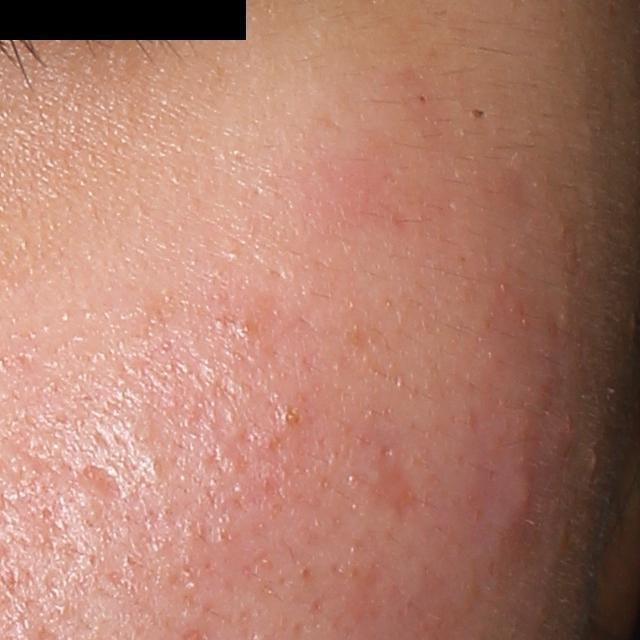atrophic_scar: (365, 419, 416, 517), (79, 460, 123, 500)
comedo: (276, 402, 309, 430), (419, 93, 429, 105)
papule: (503, 472, 541, 528)
